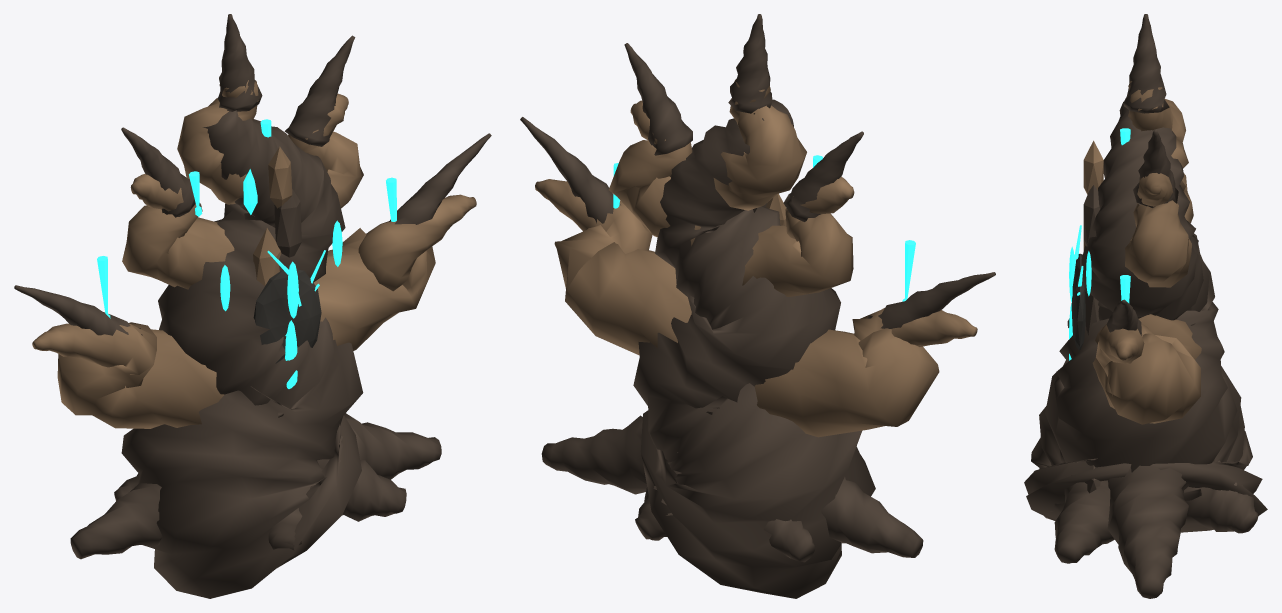
The model's file is ashroot-tree.glb.
The picture shows the model from 3 angles, left to right: view 1: azimuth 30°, elevation 25°; view 2: azimuth 150°, elevation 25°; view 3: azimuth 270°, elevation 25°; orthographic projection. The views are drawn at different scales.
Parts seen in each view (by area): view 1: Ashroot | twisted trunk, Ashroot | twisted branch 1, Ashroot | twisted branch 2, Ashroot | twisted branch 3, Ashroot | exposed root 1, Ashroot | twisted branch 5, Ashroot | hollow heart, Ashroot | exposed root 2, Ashroot | fork 4, Ashroot | twisted branch 4, Ashroot | fork 5, Ashroot | exposed root 4 (+7 smaller); view 2: Ashroot | twisted trunk, Ashroot | twisted branch 1, Ashroot | twisted branch 2, Ashroot | twisted branch 3, Ashroot | twisted branch 5, Ashroot | exposed root 2, Ashroot | twisted branch 4, Ashroot | exposed root 1, Ashroot | fork 4, Ashroot | fork 2, Ashroot | fork 5, Ashroot | fork 1 (+3 smaller); view 3: Ashroot | twisted trunk, Ashroot | twisted branch 2, Ashroot | exposed root 2, Ashroot | twisted branch 4, Ashroot | exposed root 4, Ashroot | exposed root 6, Ashroot | fork 5, Ashroot | twisted branch 5, Ashroot | fork 4, Ashroot | hollow heart, Ashroot | bark scar 7, Ashroot | fork 2 (+2 smaller).
Boxes of the visible parts, left/top/right/bottom form: Ashroot | twisted trunk: left=121, top=110, right=363, bottom=598; Ashroot | twisted branch 1: left=32, top=322, right=224, bottom=428; Ashroot | twisted branch 2: left=313, top=194, right=476, bottom=350; Ashroot | twisted branch 3: left=122, top=174, right=234, bottom=289; Ashroot | exposed root 1: left=70, top=483, right=162, bottom=559; Ashroot | twisted branch 5: left=177, top=80, right=258, bottom=204; Ashroot | hollow heart: left=253, top=268, right=321, bottom=363; Ashroot | exposed root 2: left=344, top=413, right=441, bottom=479; Ashroot | fork 4: left=284, top=35, right=355, bottom=146; Ashroot | twisted branch 4: left=288, top=93, right=363, bottom=208; Ashroot | fork 5: left=217, top=14, right=262, bottom=111; Ashroot | exposed root 4: left=317, top=459, right=406, bottom=521; Ashroot | twisted trunk: left=633, top=99, right=875, bottom=598; Ashroot | twisted branch 1: left=754, top=308, right=977, bottom=437; Ashroot | twisted branch 2: left=535, top=179, right=691, bottom=355; Ashroot | twisted branch 3: left=742, top=176, right=854, bottom=296; Ashroot | twisted branch 5: left=713, top=78, right=806, bottom=210; Ashroot | exposed root 2: left=541, top=415, right=646, bottom=494; Ashroot | twisted branch 4: left=608, top=100, right=700, bottom=246; Ashroot | exposed root 1: left=821, top=477, right=923, bottom=557; Ashroot | fork 4: left=624, top=43, right=692, bottom=155; Ashroot | fork 2: left=520, top=117, right=620, bottom=223; Ashroot | fork 5: left=728, top=14, right=772, bottom=114; Ashroot | fork 1: left=867, top=272, right=995, bottom=328; Ashroot | twisted trunk: left=1024, top=101, right=1267, bottom=532; Ashroot | twisted branch 2: left=1092, top=314, right=1201, bottom=424; Ashroot | exposed root 2: left=1107, top=465, right=1188, bottom=598; Ashroot | twisted branch 4: left=1125, top=173, right=1191, bottom=287; Ashroot | exposed root 4: left=1054, top=475, right=1114, bottom=563; Ashroot | exposed root 6: left=1185, top=456, right=1258, bottom=533; Ashroot | fork 5: left=1123, top=14, right=1169, bottom=113; Ashroot | twisted branch 5: left=1128, top=81, right=1188, bottom=190; Ashroot | fork 4: left=1133, top=129, right=1178, bottom=207; Ashroot | hollow heart: left=1071, top=253, right=1085, bottom=350; Ashroot | bark scar 7: left=1083, top=140, right=1103, bottom=194; Ashroot | fork 2: left=1106, top=299, right=1141, bottom=335.
Bounding box in the file's own units: 3.38 × 3.79 × 1.54.
